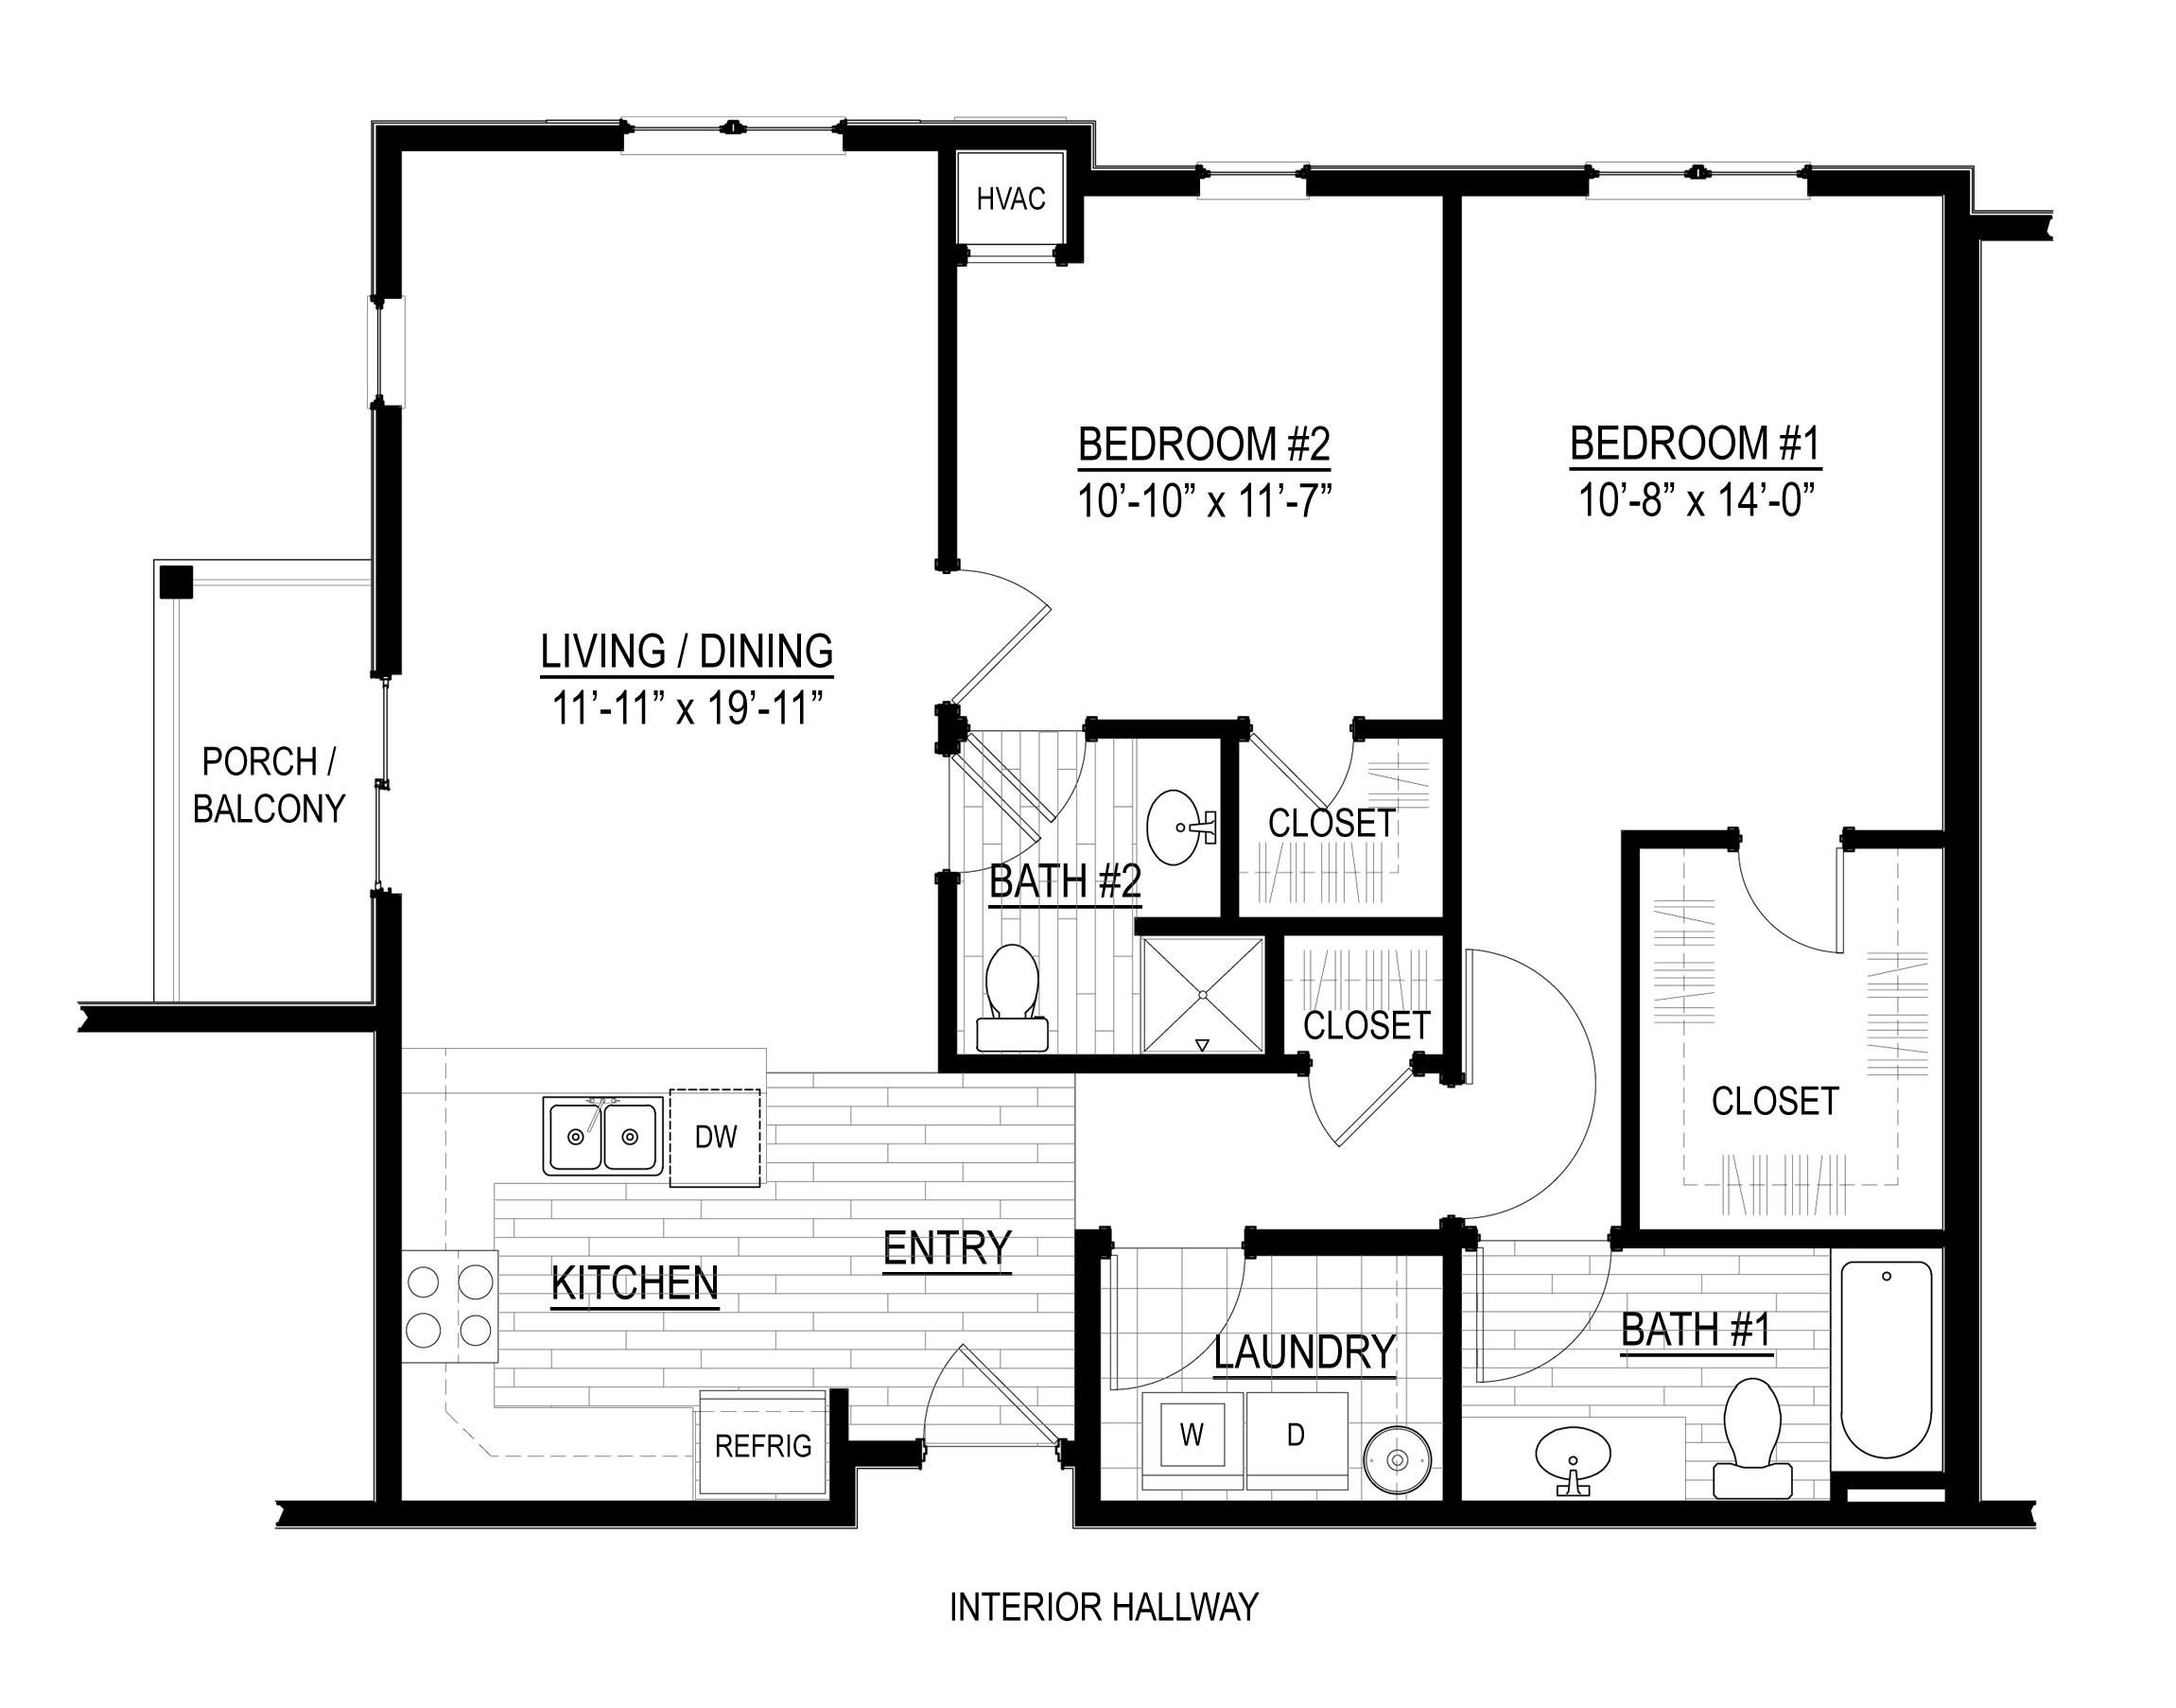door: (1471, 1256, 1606, 1390), (1109, 1263, 1242, 1395), (1464, 933, 1597, 1062), (915, 1337, 1056, 1436), (963, 562, 1056, 703), (1738, 851, 1847, 959), (1303, 1072, 1420, 1152), (1252, 740, 1367, 811)
